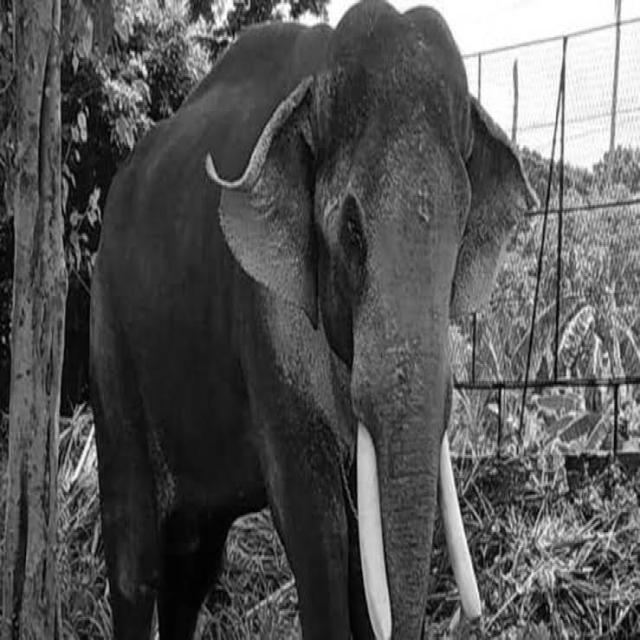Elephant: (87, 0, 540, 638)
